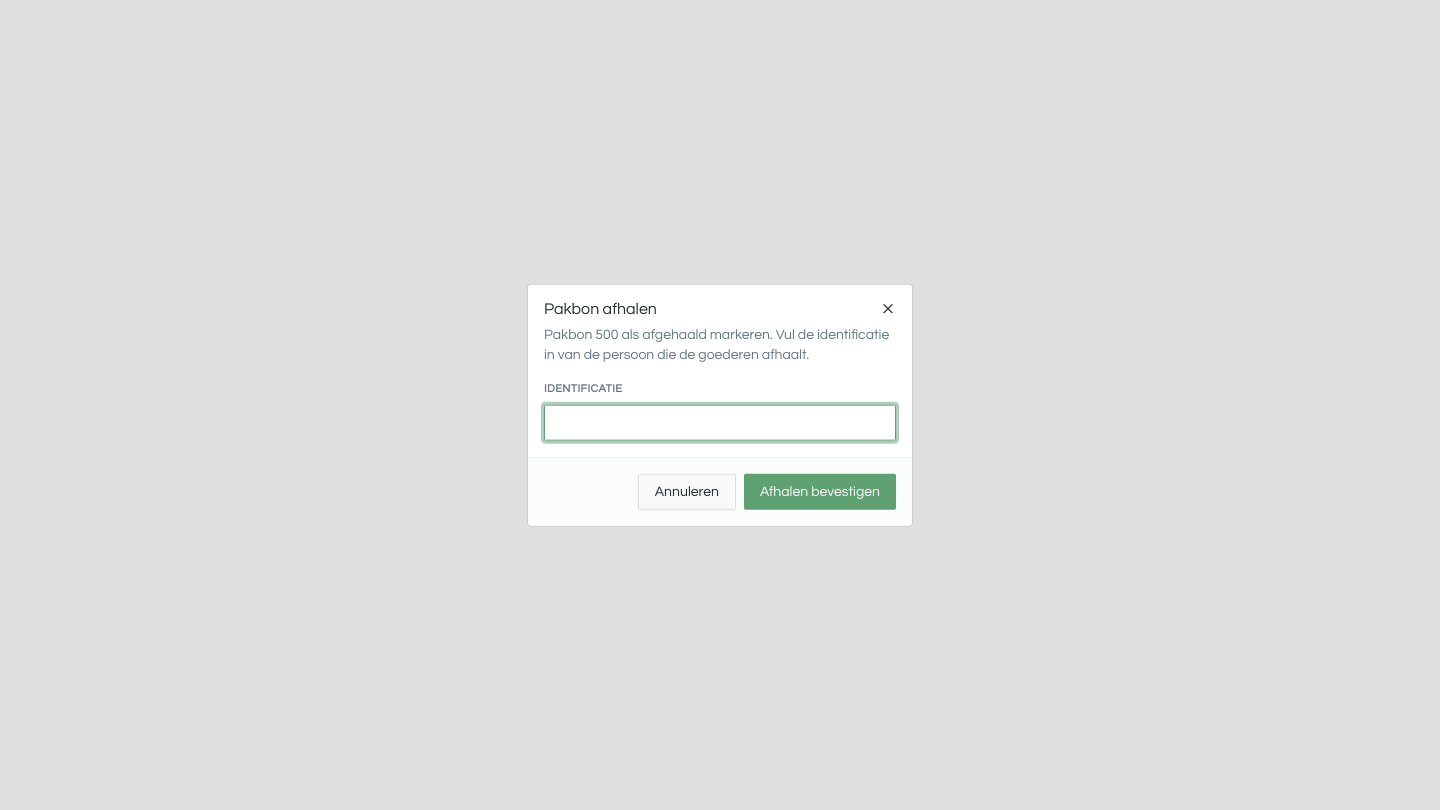
Test case: PakbonAfhalenDialog › requires an identificatie before confirming
Click the button "Afhalen bevestigen" at (820, 491), box [744, 473, 896, 509]
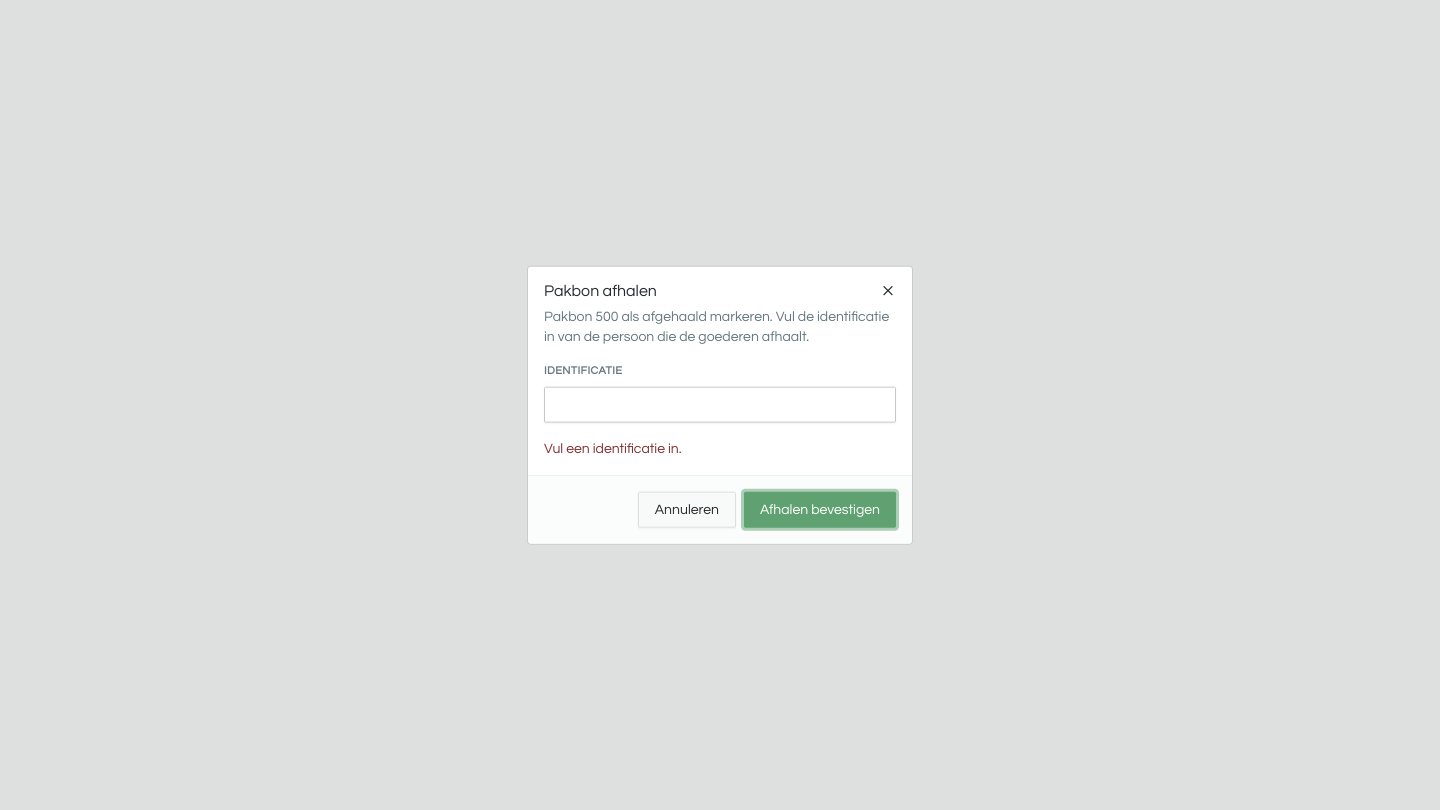
Check: the text "Vul een identificatie in." is shown, box [544, 441, 682, 455]
